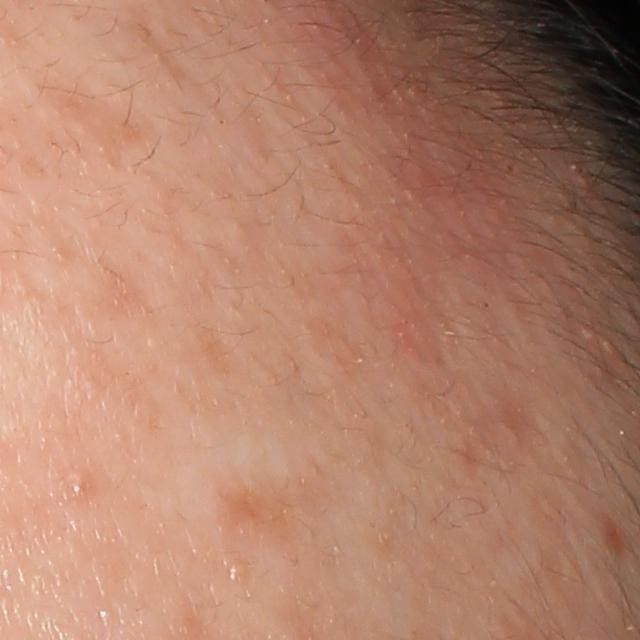comedo: (64, 467, 95, 502), (225, 555, 249, 585)
